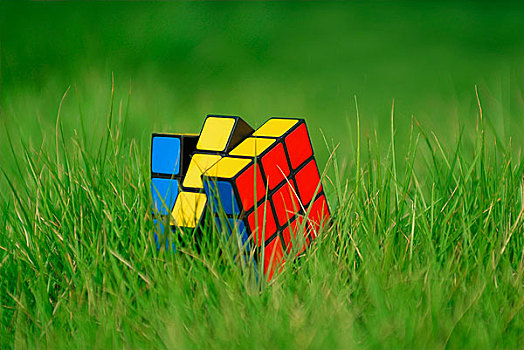cube: (149, 113, 335, 291)
